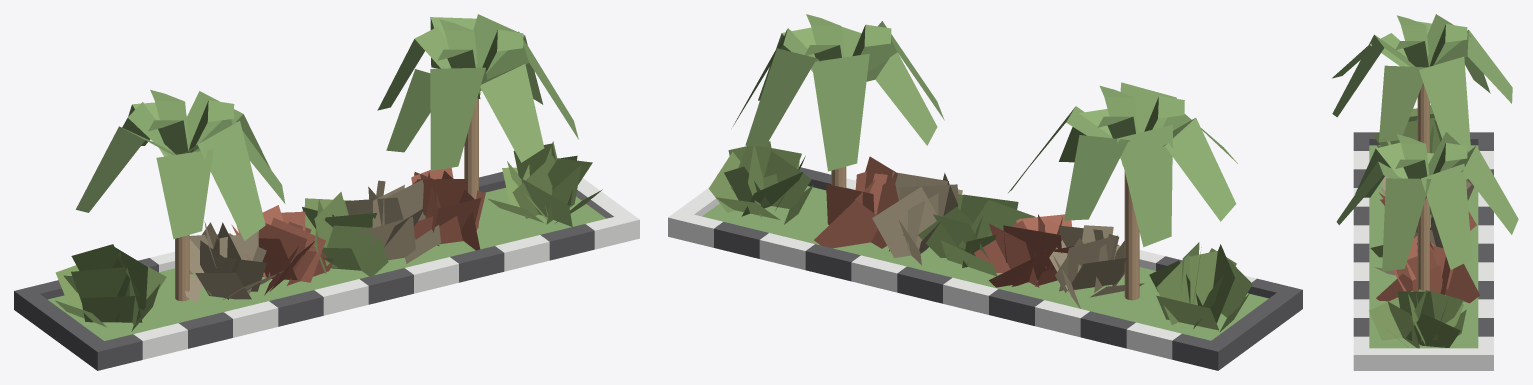
File: Kerbed_Bed.fbx
3 renders of one model, left to right at view 1: azimuth 30°, elevation 25°; view 2: azimuth 150°, elevation 25°; view 3: azimuth 270°, elevation 25°, orthographic. The views are drawn at different scales.
Parts seen in each view (by area): view 1: Kerbed_Bed; view 2: Kerbed_Bed; view 3: Kerbed_Bed.
Part boxes in pixels (left/top/right/bottom): Kerbed_Bed: left=14, top=14, right=639, bottom=370; Kerbed_Bed: left=668, top=14, right=1302, bottom=370; Kerbed_Bed: left=1332, top=14, right=1518, bottom=370.
Bounding box in the file's own units: 6 × 2.38 × 2.13.
